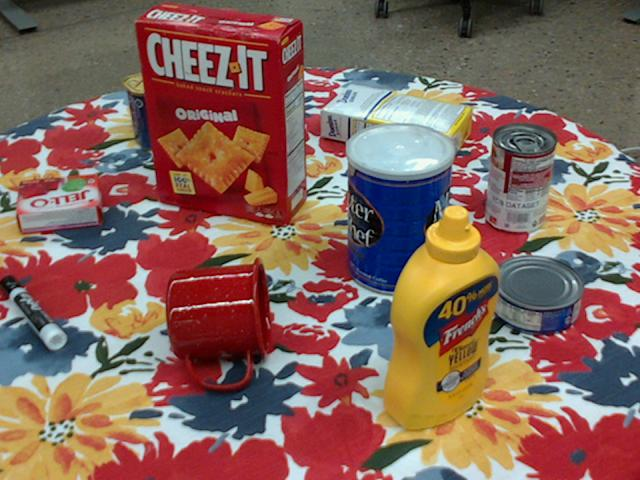cracker_box: (136, 2, 307, 221)
gelatin_box: (17, 173, 102, 234)
large_marker: (0, 274, 65, 349)
master_chef_can: (345, 123, 454, 297)
mug: (166, 257, 269, 390)
mustard_bottle: (383, 205, 498, 430)
potted_meat_can: (123, 62, 209, 149)
sugar_box: (320, 82, 473, 165)
tomato_soup_can: (485, 122, 556, 234)
tuna_fish_can: (489, 256, 583, 336)
